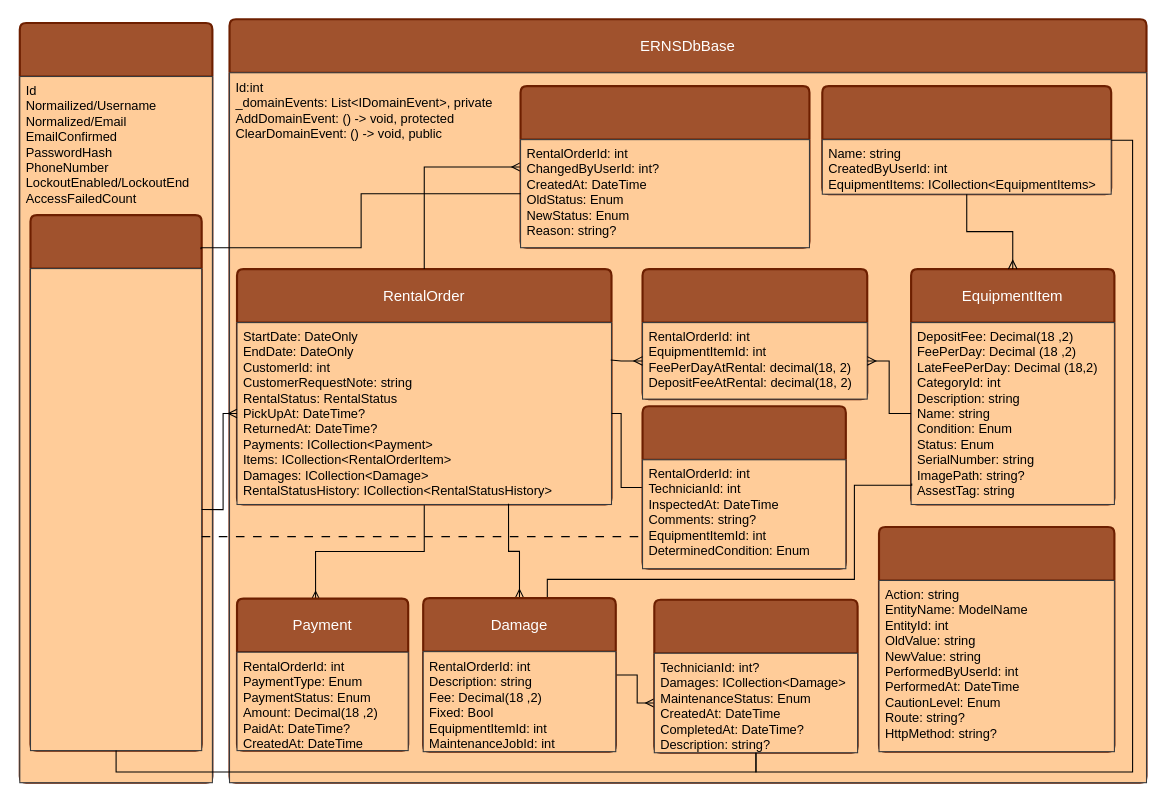
This 1165x803 diagram has some shape labels left out. The shapes that lost their labels are listed below. From the top down, each one's box as (x1, y1, x2, y2) in pixels, then its label:
(821, 85, 1112, 195): EquipmentCategory
(519, 85, 810, 248): RentalStatusHistory
(641, 268, 868, 400): RentalOrderItem
(18, 21, 213, 783): IIdentityDbContext <ApplicationUser>
(29, 213, 202, 751): ApplicationUser
(641, 405, 846, 569): Inspection
(29, 268, 202, 751): EmployeeStatus: Enum? IsBanned: Bool
(877, 525, 1115, 752): (Treat as Event table) Audit
(653, 598, 858, 753): MaintenanceJob
